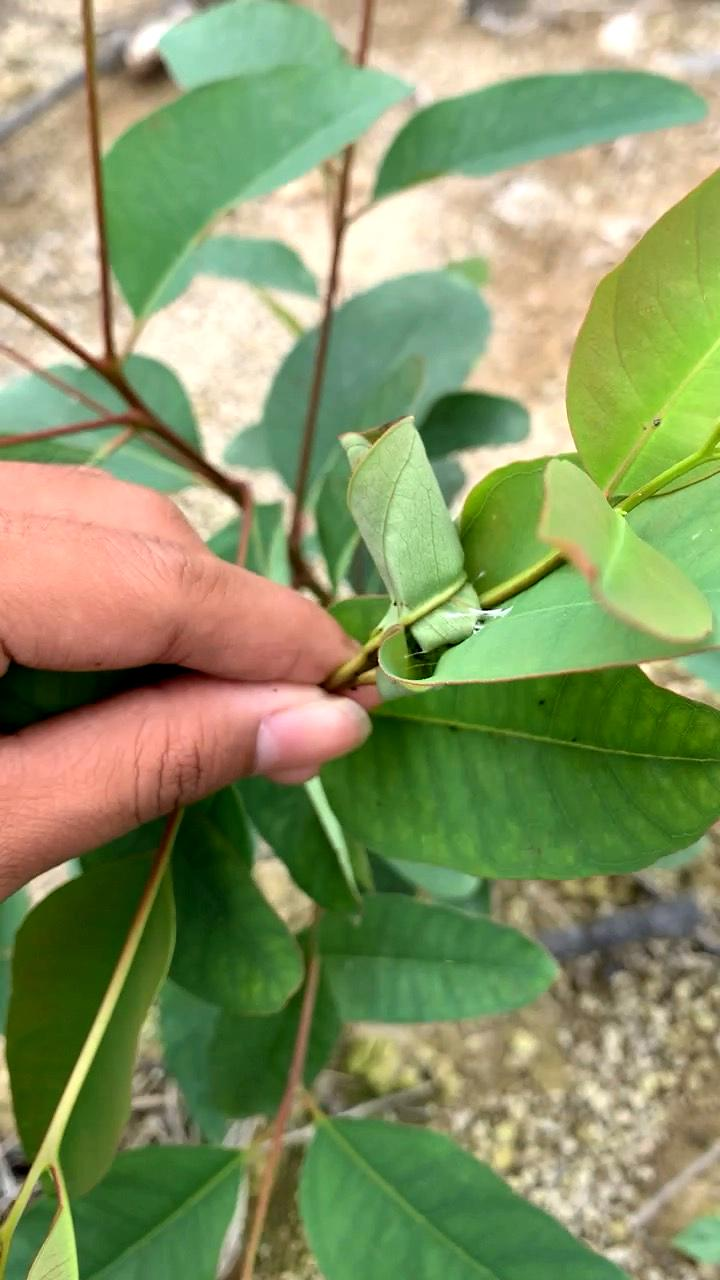Leaf Roller - Leaf: (335, 393, 511, 696)
